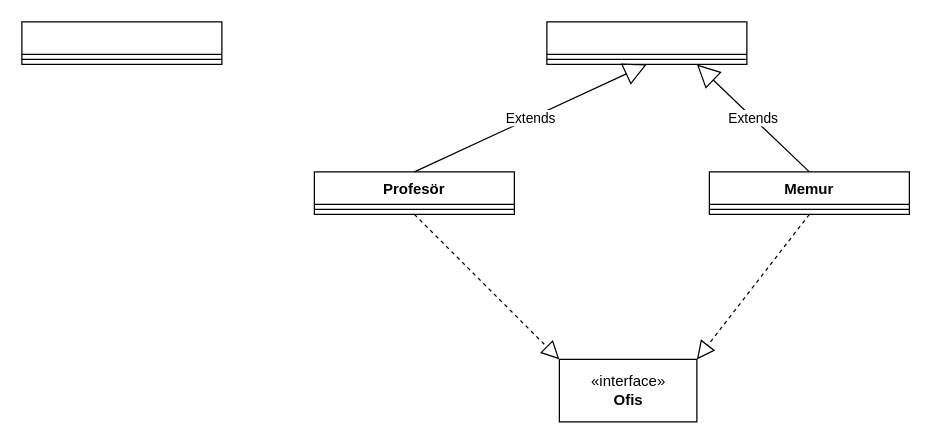
Image size: 931x444. Some labels were removed from this diagram. The box of each missing label's shape, as (x1, y1, x2, y2) in pixels:
Çalışanlar: (546, 21, 747, 64)
Üniversite: (21, 21, 222, 64)
